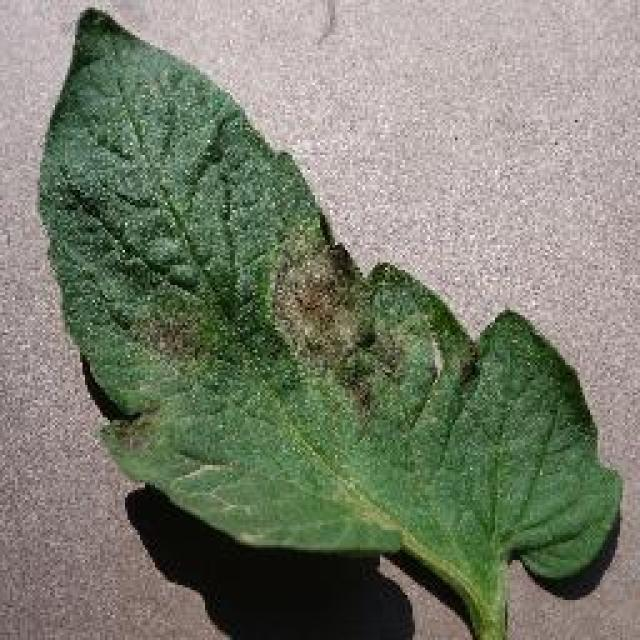Tomato___Late_blight: (38, 10, 622, 638)
